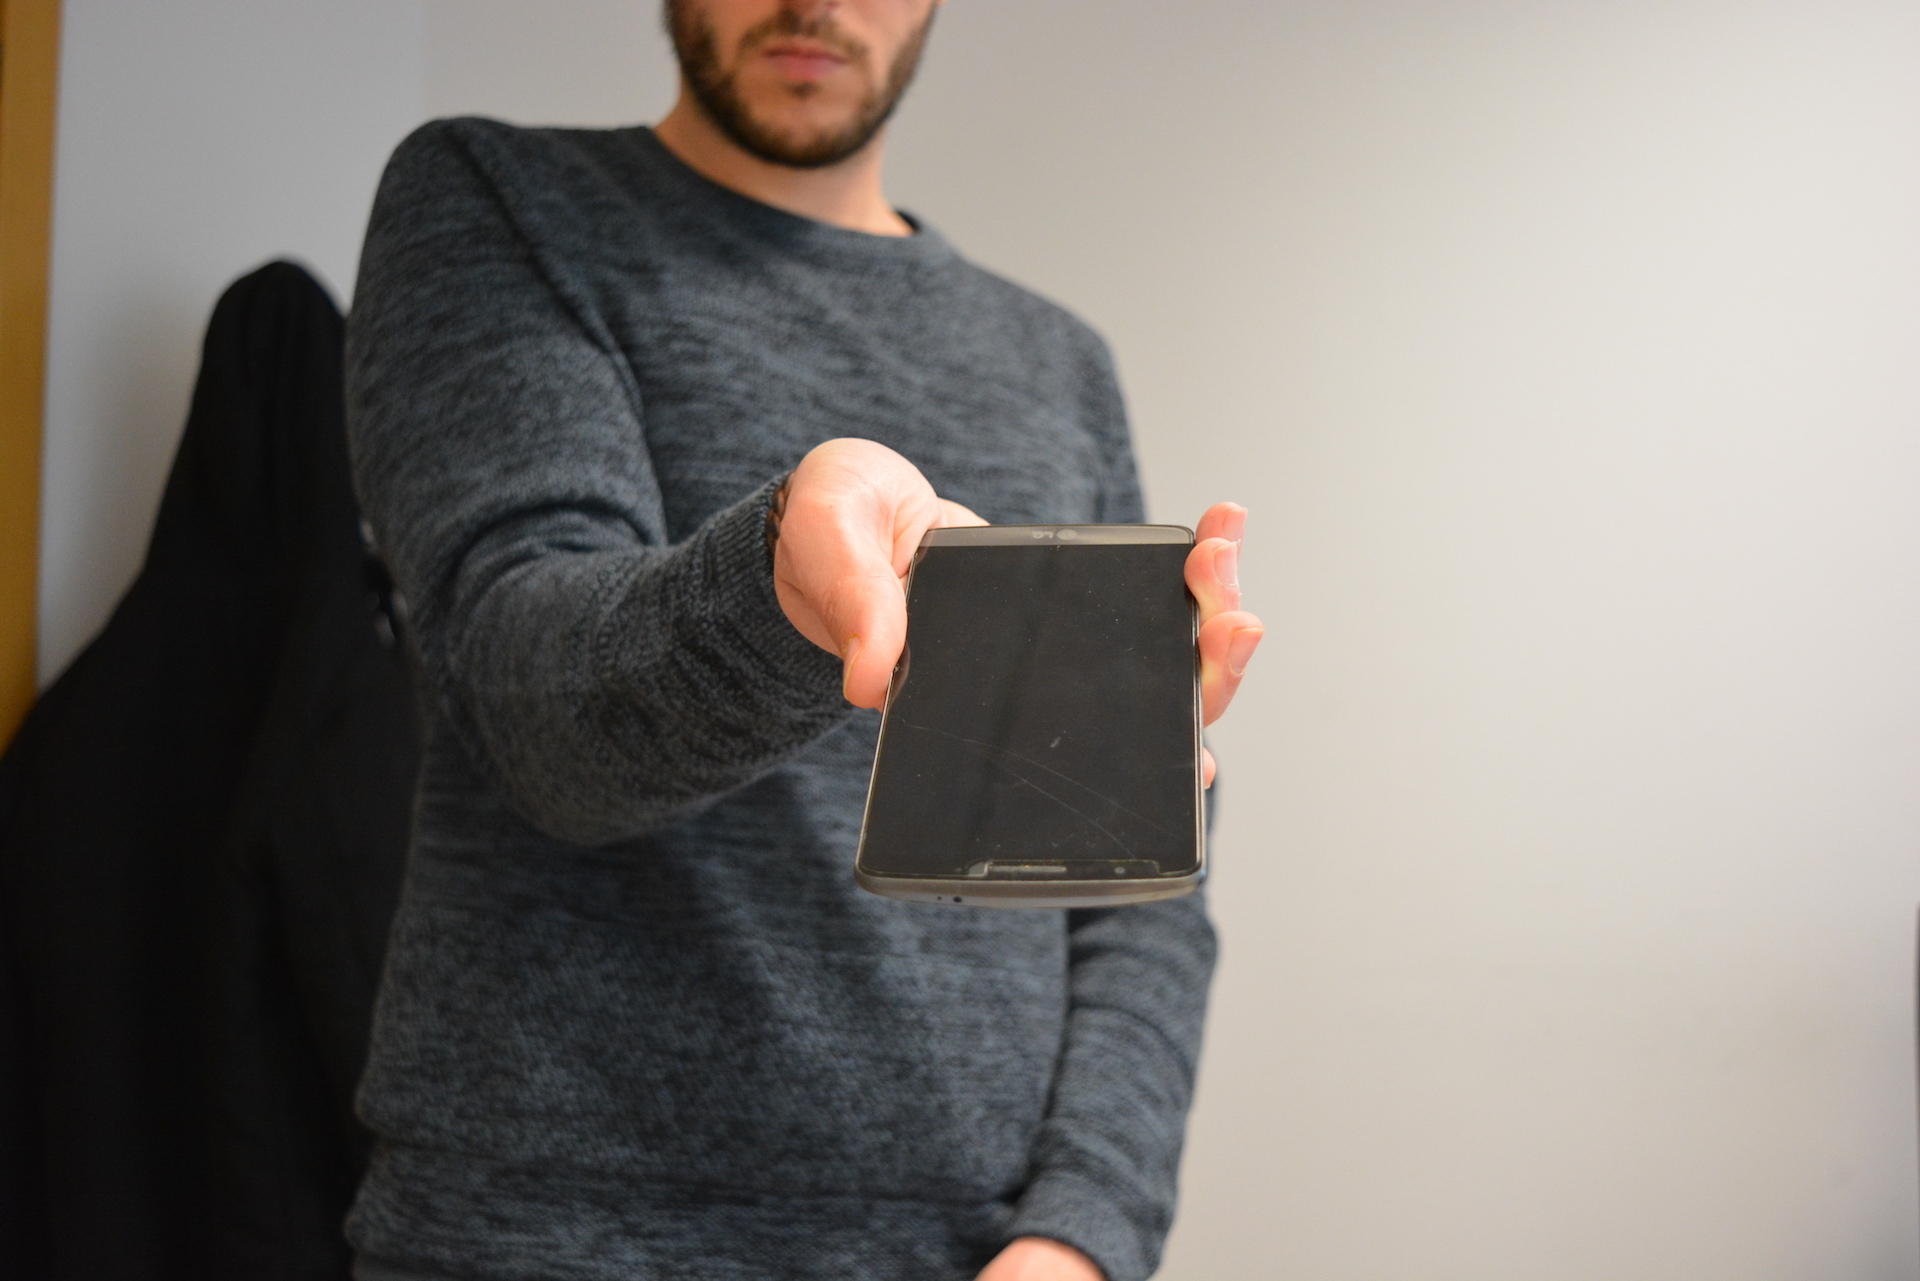smartphone: (851, 519, 1209, 914)
